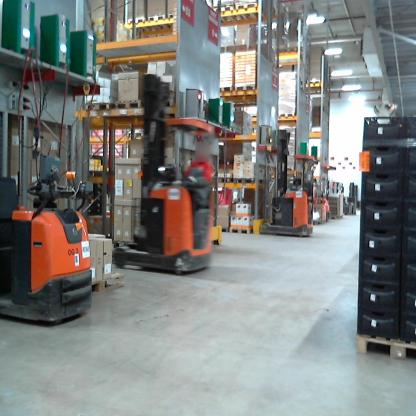forklift: (105, 73, 226, 276), (252, 130, 316, 237)
pallet: (352, 326, 414, 363), (91, 271, 128, 302), (234, 83, 265, 106), (145, 11, 171, 36), (114, 99, 157, 113), (235, 0, 263, 21), (127, 16, 156, 34), (216, 85, 242, 105), (167, 10, 186, 35), (213, 5, 238, 22), (80, 102, 113, 114), (306, 78, 325, 96), (232, 175, 258, 187), (125, 130, 152, 141), (227, 226, 256, 236), (278, 110, 299, 123), (211, 225, 233, 235), (214, 176, 232, 185)
pallet_truck: (0, 163, 98, 334), (314, 166, 335, 224)
